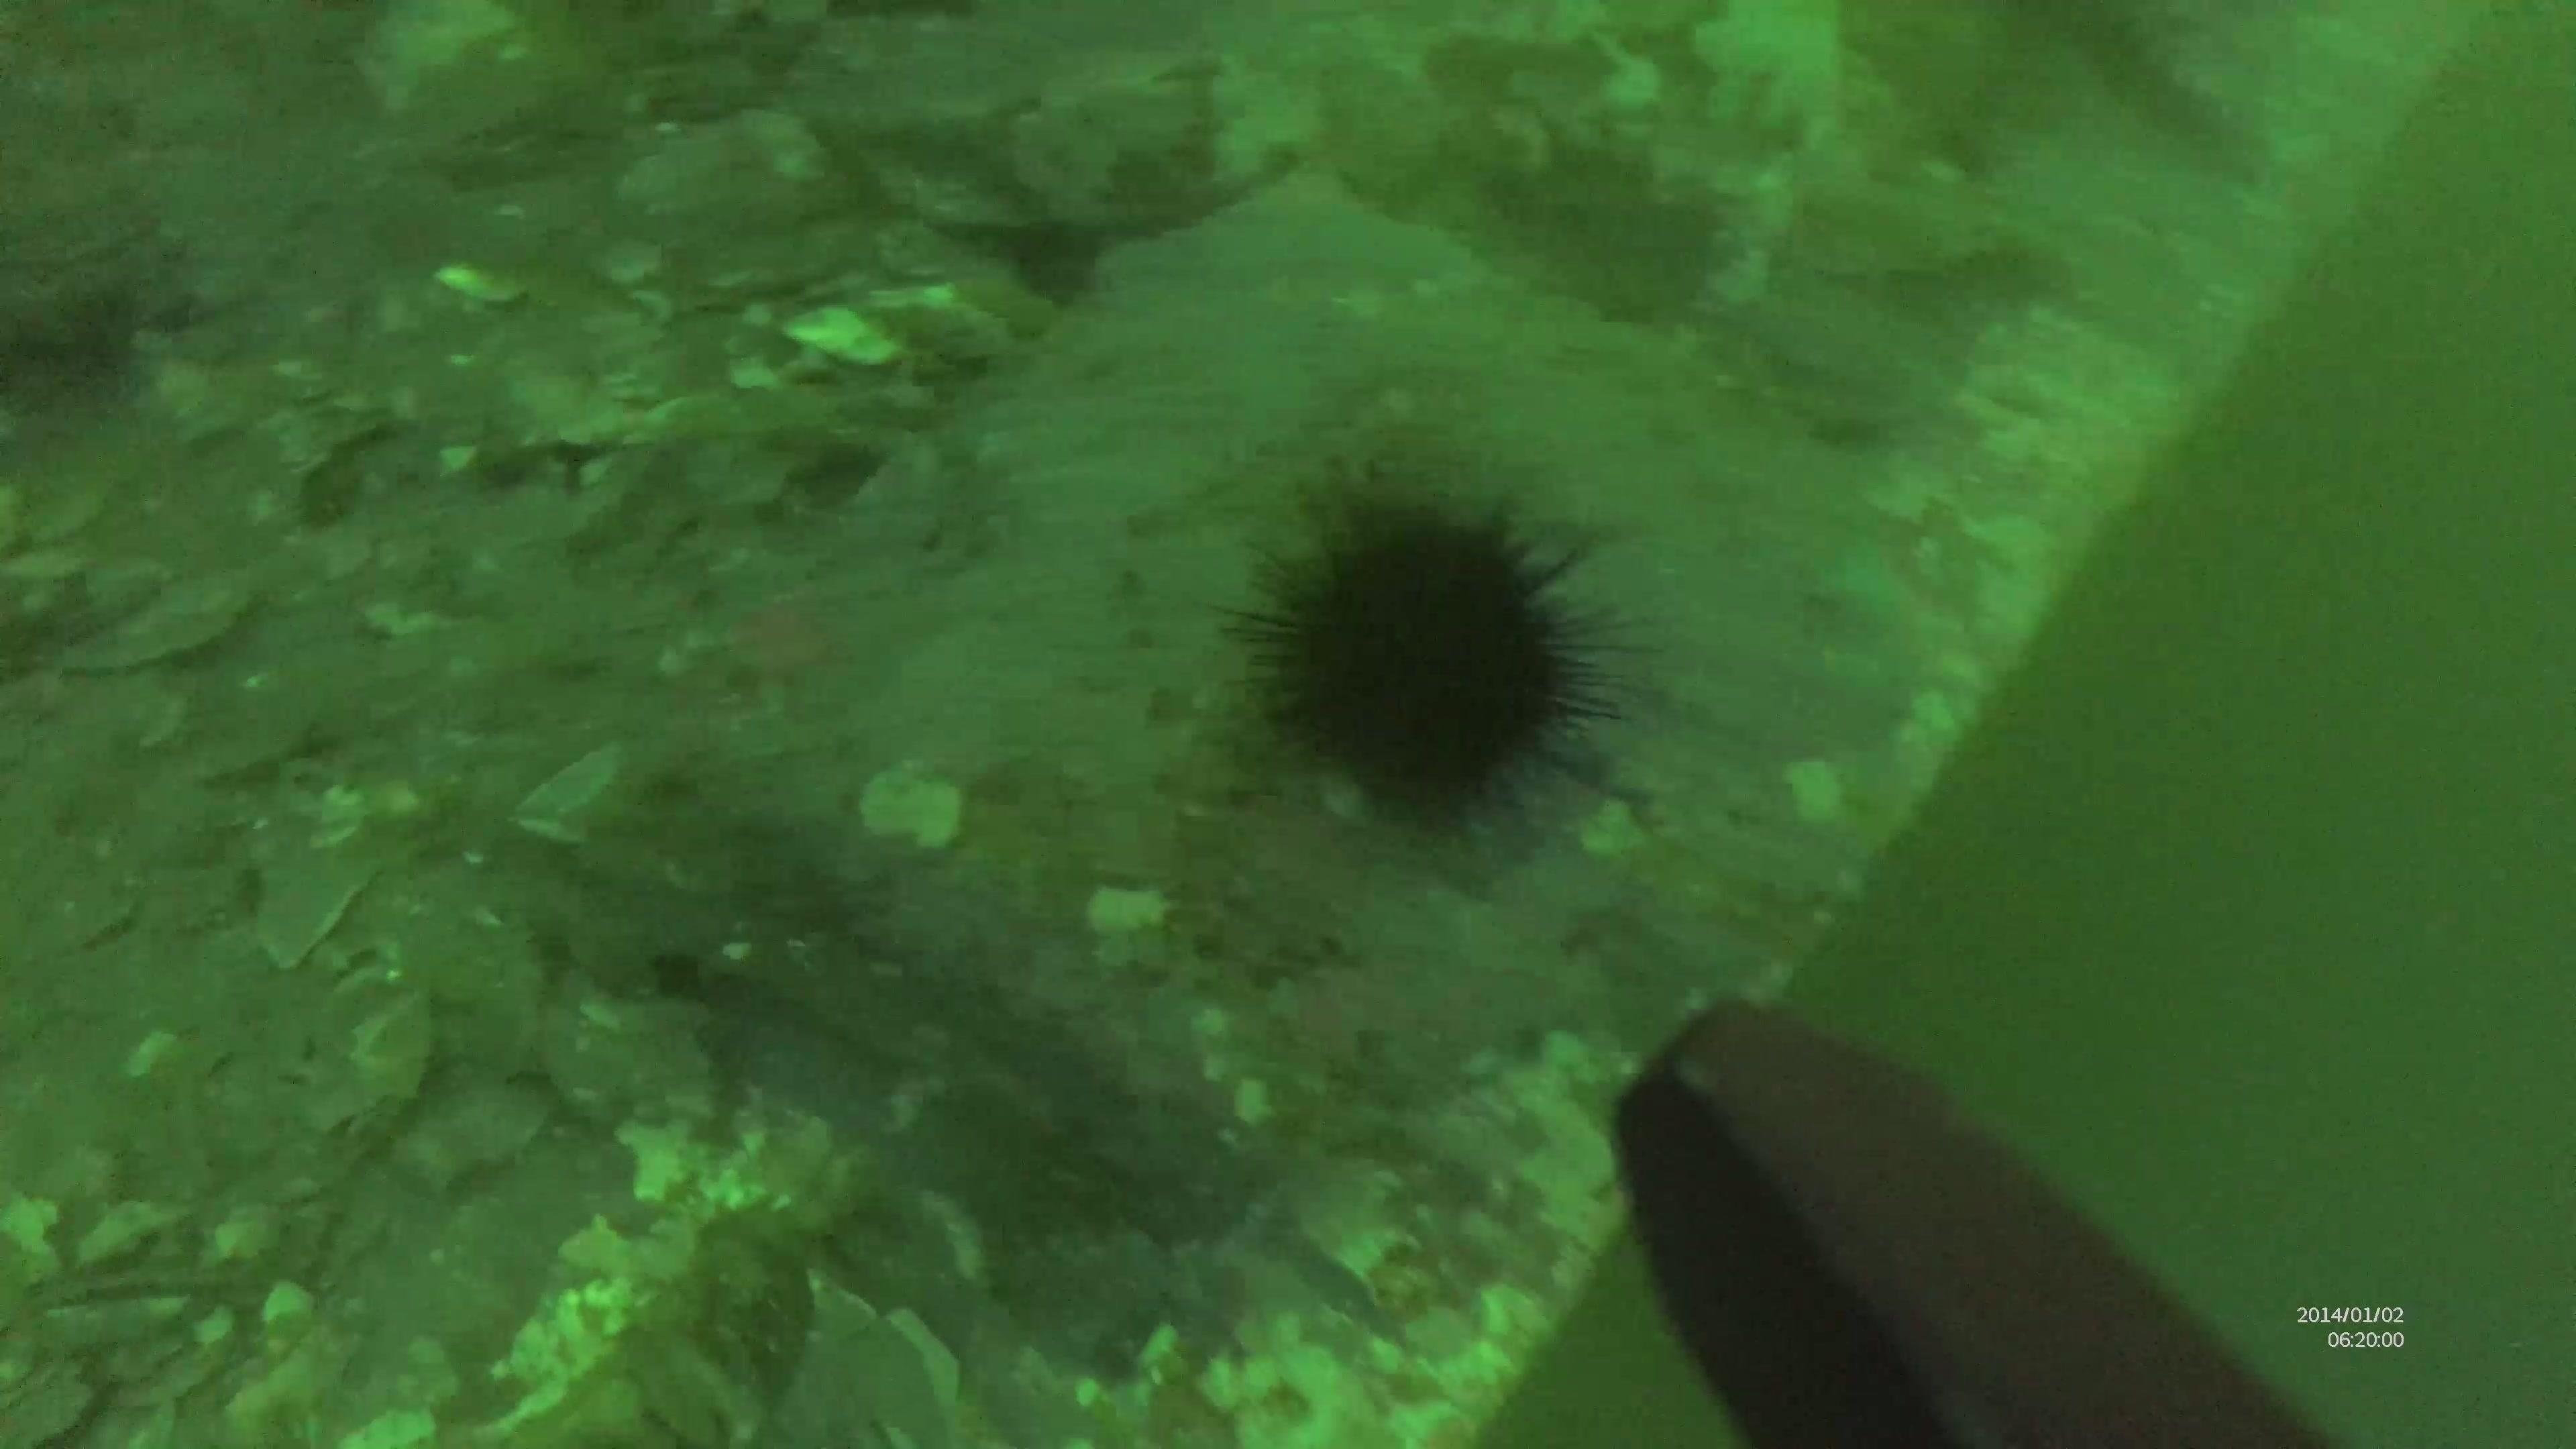echinus: (1230, 472, 1633, 833)
